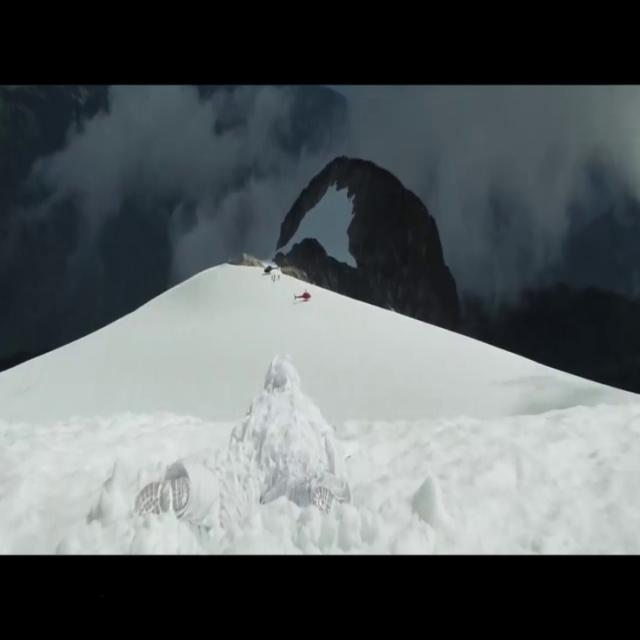Camouflage: (131, 355, 353, 515)
